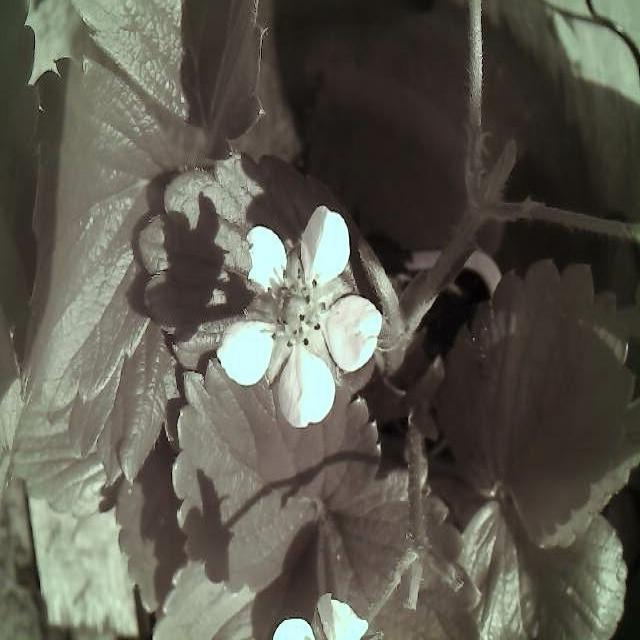flower: (220, 210, 382, 436)
